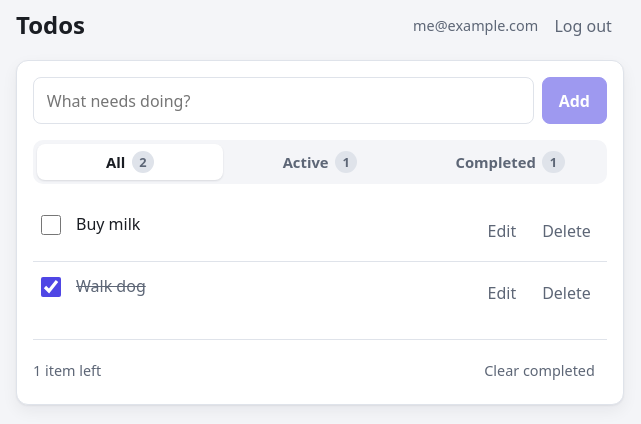
Test: TodosPage › deletes a todo
Expected: the text "Buy milk" is shown, x1=76 y1=213 x2=140 y2=235
Click the button with aria-label "Delete “Buy milk”" at (566, 231), box x1=530 y1=212 x2=603 y2=249
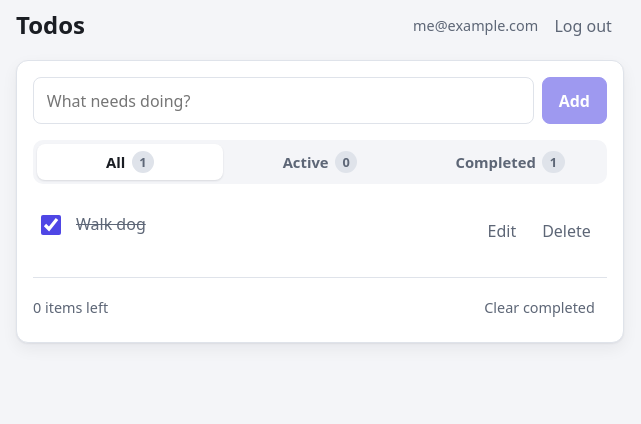
Expected: the text "Buy milk" is gone
